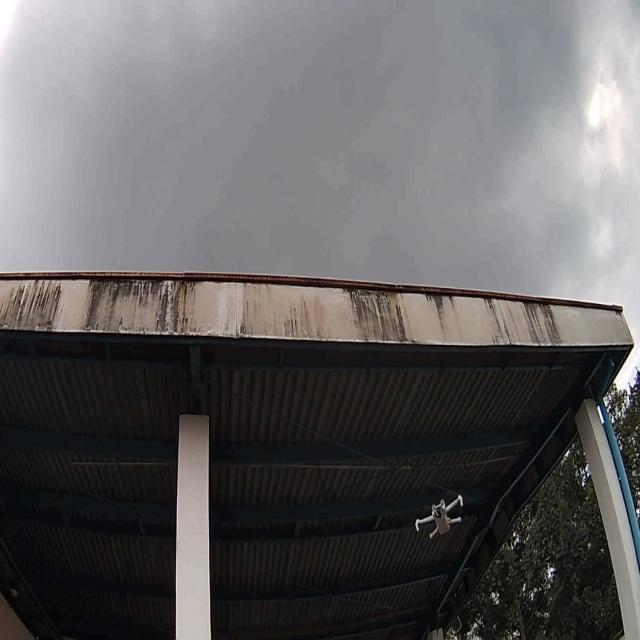drone: (414, 493, 464, 540)
